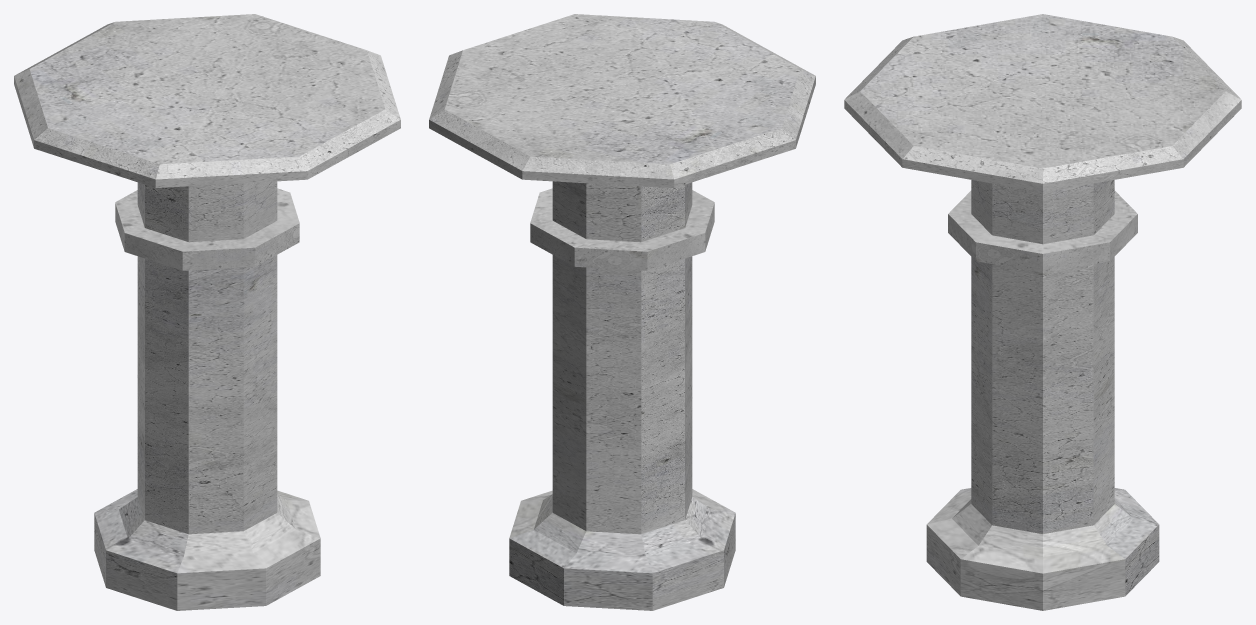
Rendered from podium_01.fbx.
The picture shows the model from 3 angles, left to right: view 1: azimuth 30°, elevation 25°; view 2: azimuth 150°, elevation 25°; view 3: azimuth 270°, elevation 25°; orthographic projection.
Parts seen in each view (by area): view 1: podium; view 2: podium; view 3: podium.
Part boxes in pixels (box(x1,y1,x2,y2)): podium: box(14, 14, 400, 610); podium: box(429, 14, 815, 610); podium: box(844, 14, 1241, 610).
Size of the model in its own units: 0.6182 by 0.8073 by 0.6182.
1 material, 1 textured.
